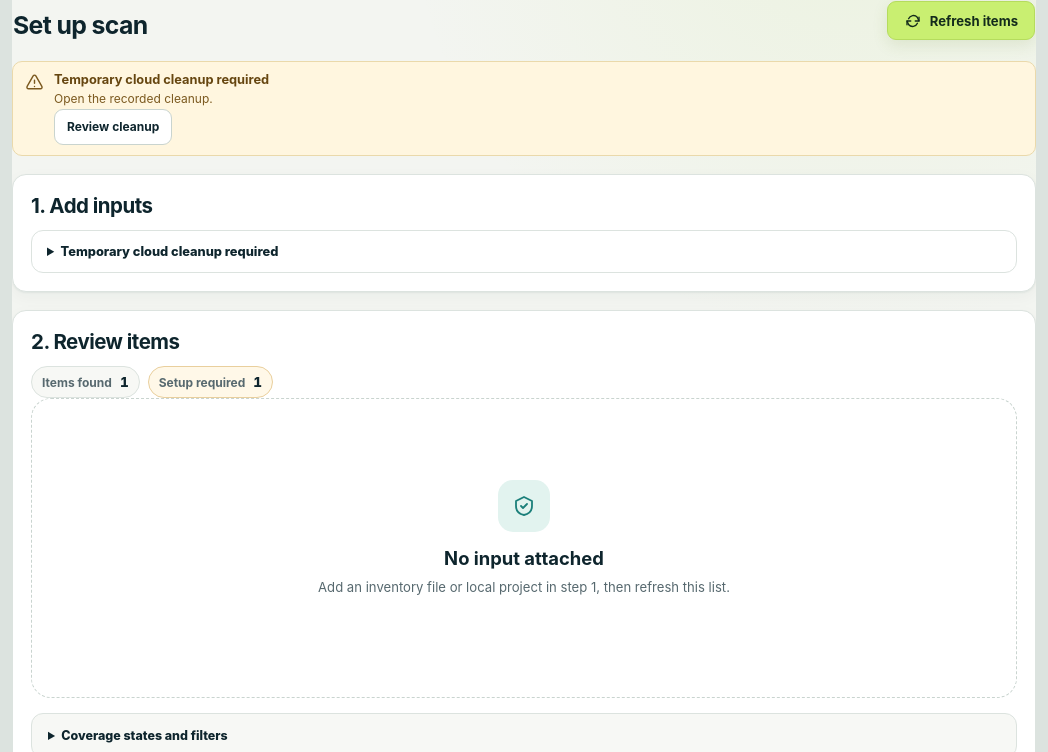
Test: a failed cleanup lookup remains actionable without a provider source and offers a retry
Check: the heading "Temporary cloud cleanup required" is shown, box [60,244,278,259]
Click the button "Review cleanup" at (113, 127), box [54,109,172,145]
(page scrolled)
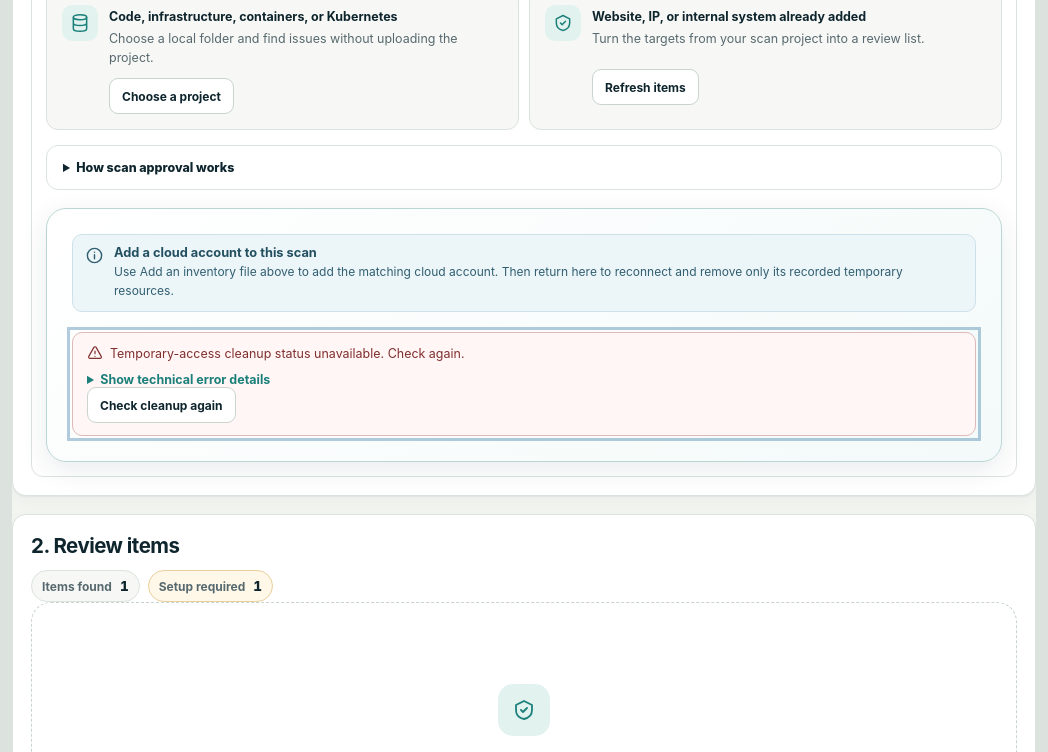
Check: the text "Use Add an inventory file above to add the matching cloud account. Then return here to reconnect and remove only its rec" is shown, box [114,264,903,298]
Check: the text "Temporary-access cleanup status unavailable. Check again." is shown, box [110,346,464,361]
Click the button "Check cleanup again" at (161, 405), box [87,387,236,423]
(page scrolled)
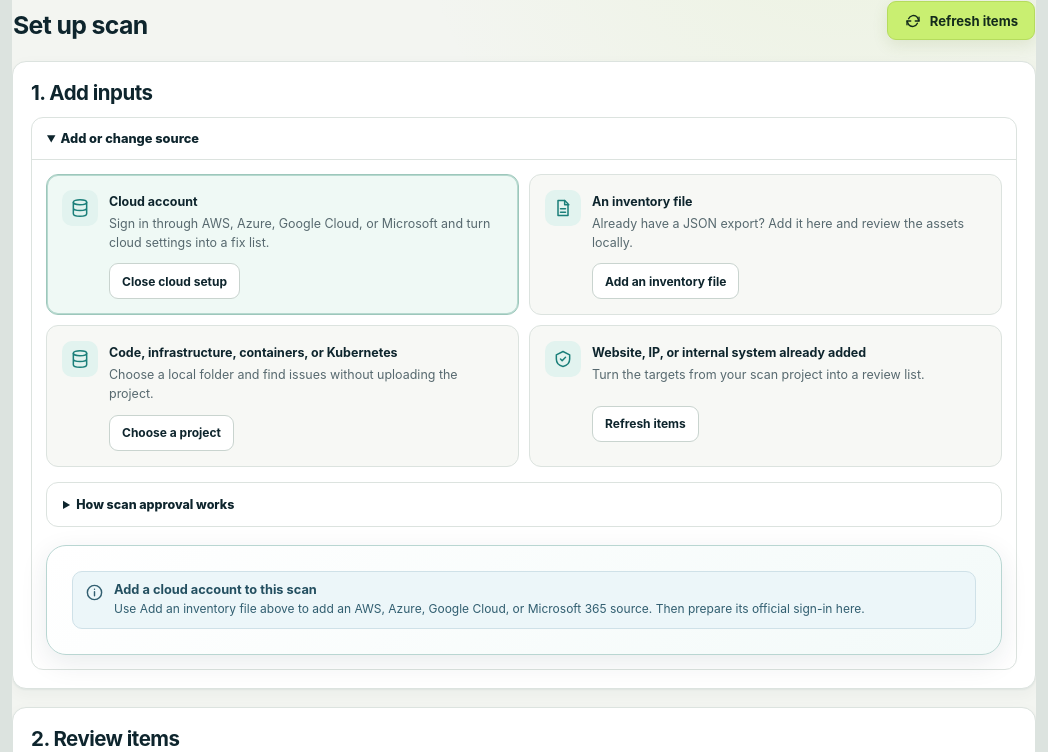
Check: the text "Temporary-access cleanup status unavailable. Check again." is gone
Check: the heading "Add or change source" is shown, box [32,118,1016,160]
